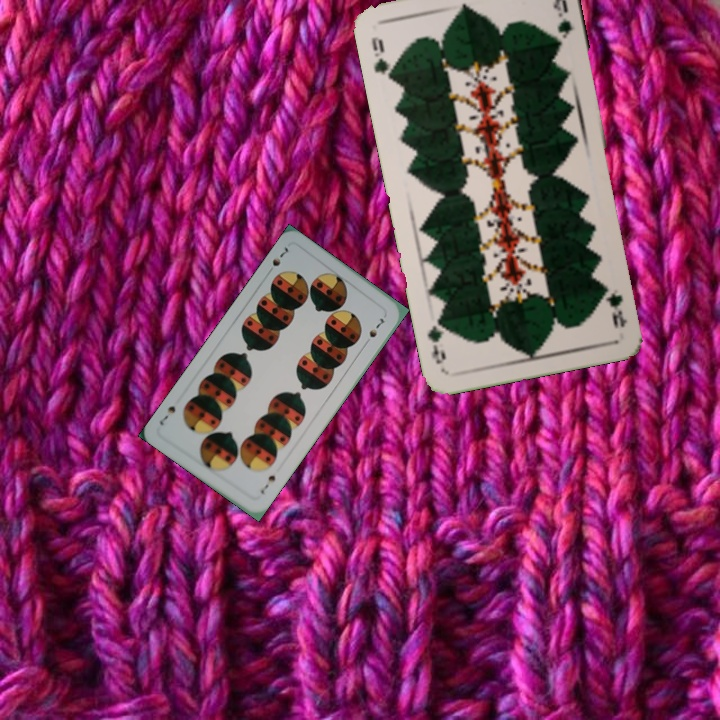G9: (367, 32, 398, 84), (603, 288, 630, 331)
S7: (263, 243, 291, 277), (256, 471, 278, 497)
